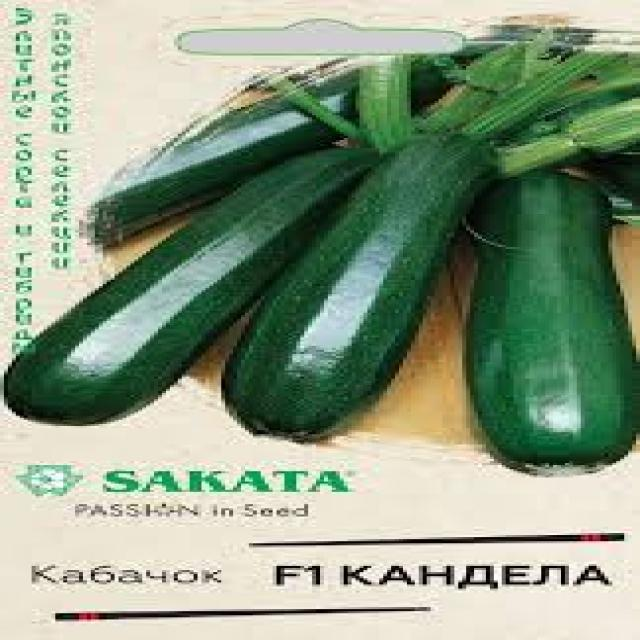vegetable marrow: (7, 98, 336, 430), (232, 117, 520, 472), (450, 118, 640, 476)
